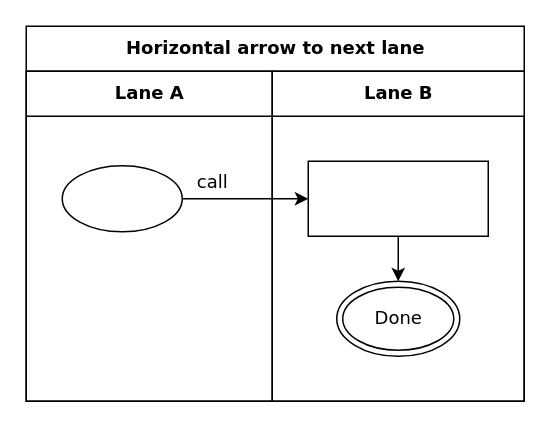
Image size: 551x428. Some labels were removed from this diagram. Here are the shapes that lost their labels. From the top down, the centre of each, then its label:
At pixel 121 198: "Start".
At pixel 397 198: "Take".
